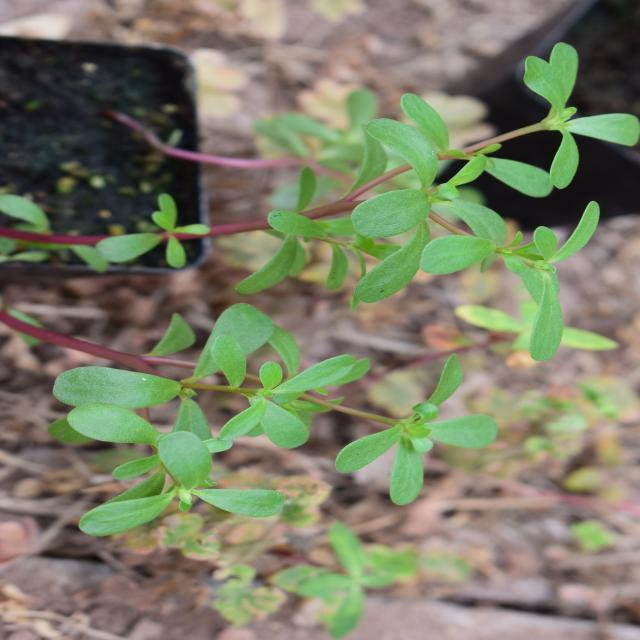purslane: (41, 12, 547, 609)
